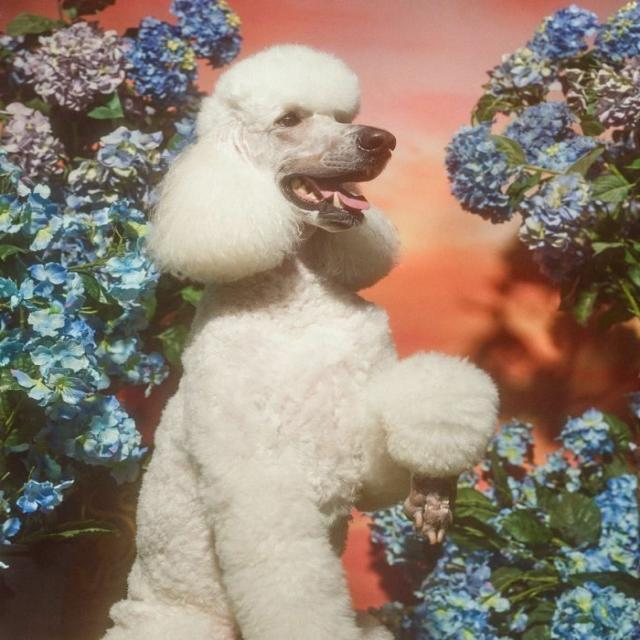Dogs: (97, 40, 501, 640)
